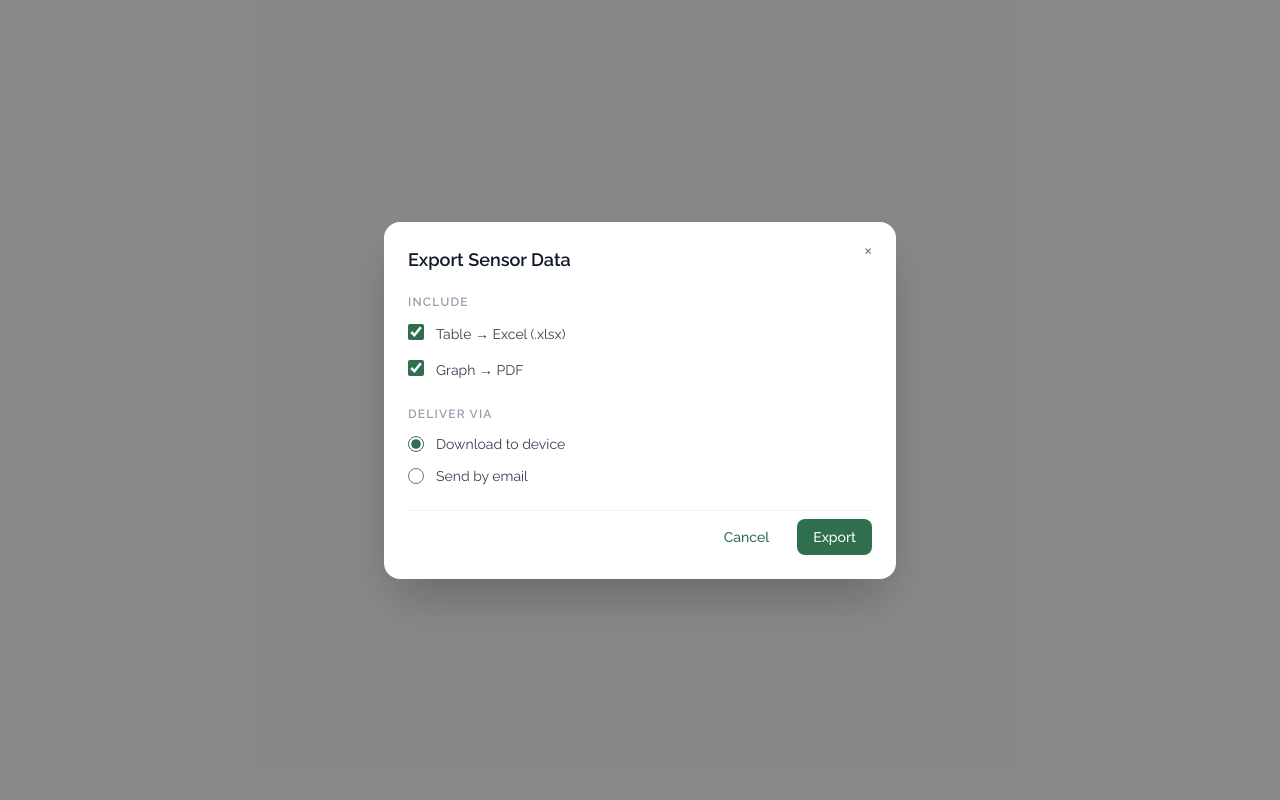
Test: ExportModal › shows email input when Email is selected
The image size is (1280, 800).
Click the radio button labelled "Send by email" at (416, 476), box [408,468,424,484]
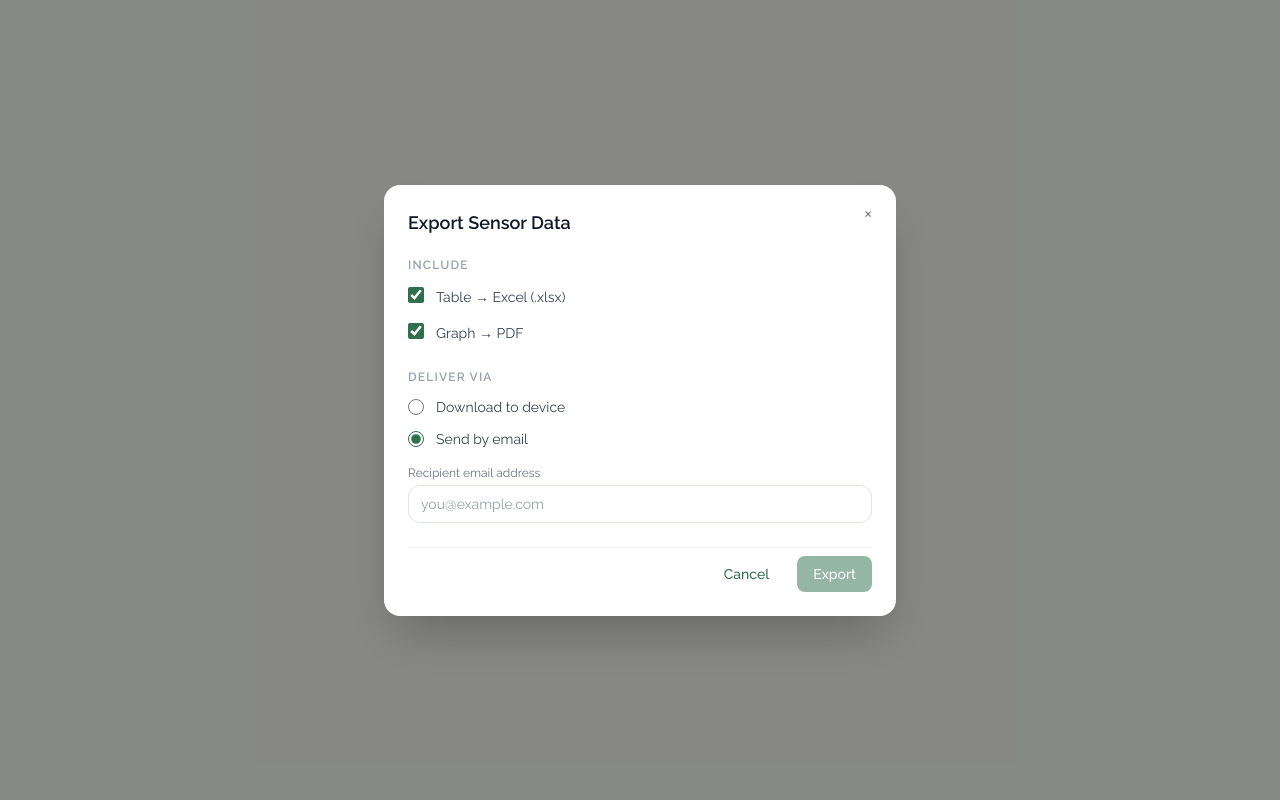
Expected: the field with placeholder "you@example.com" is shown, [408,484,872,522]
